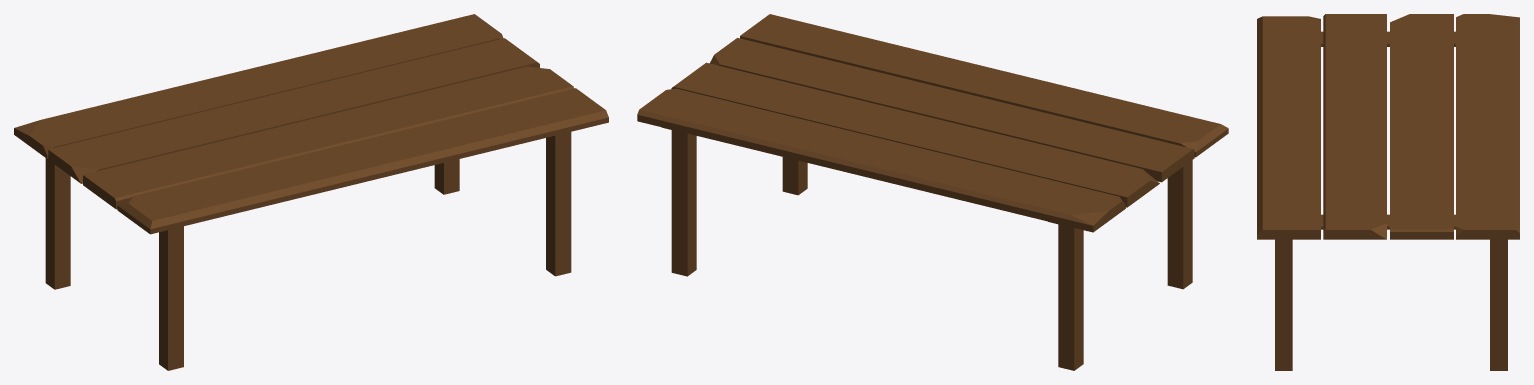
File: Table_1.fbx
The picture shows the model from 3 angles, left to right: view 1: azimuth 30°, elevation 25°; view 2: azimuth 150°, elevation 25°; view 3: azimuth 270°, elevation 25°; orthographic projection. The views are drawn at different scales.
Visible parts, largest first — view 1: table_1; view 2: table_1; view 3: table_1.
Boxes of the visible parts, left/top/right/bottom form: table_1: left=14, top=14, right=608, bottom=370; table_1: left=637, top=14, right=1228, bottom=370; table_1: left=1257, top=14, right=1519, bottom=370.
Bounding box in the file's own units: 142 × 47.45 × 73.16.
